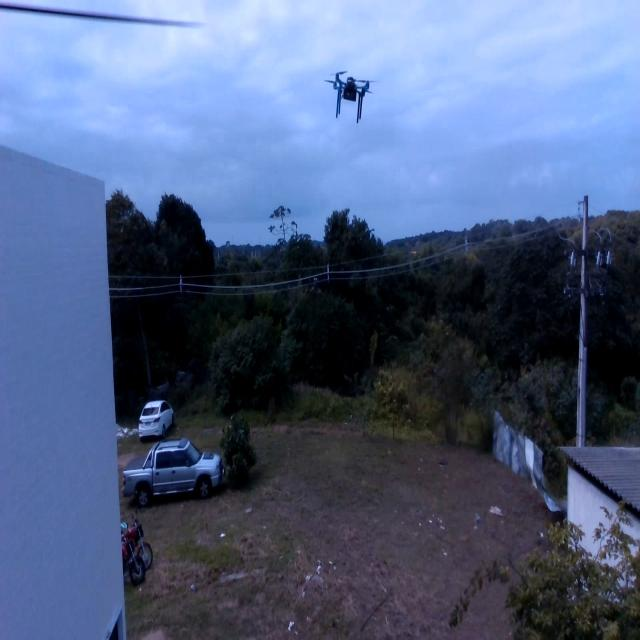-uav-: (319, 57, 385, 132)
